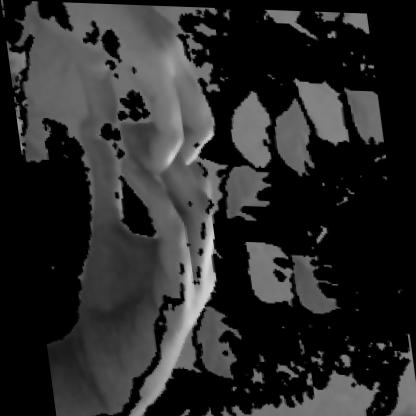heart: (30, 27, 246, 366)
